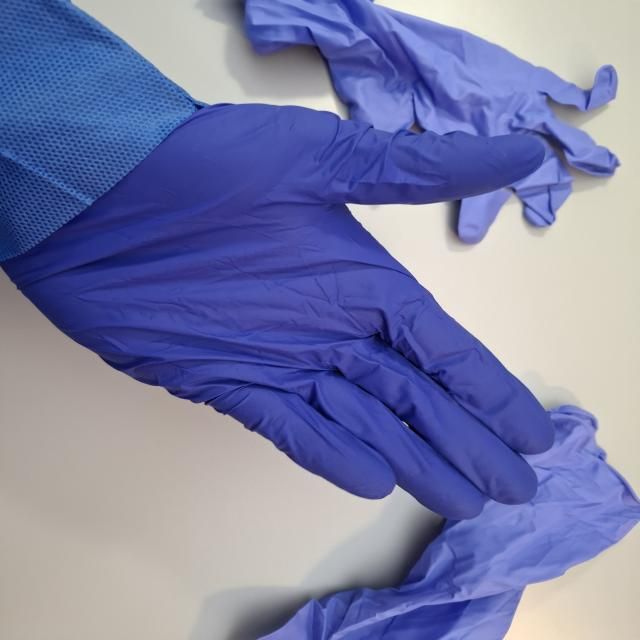glove_on: (4, 100, 560, 523)
